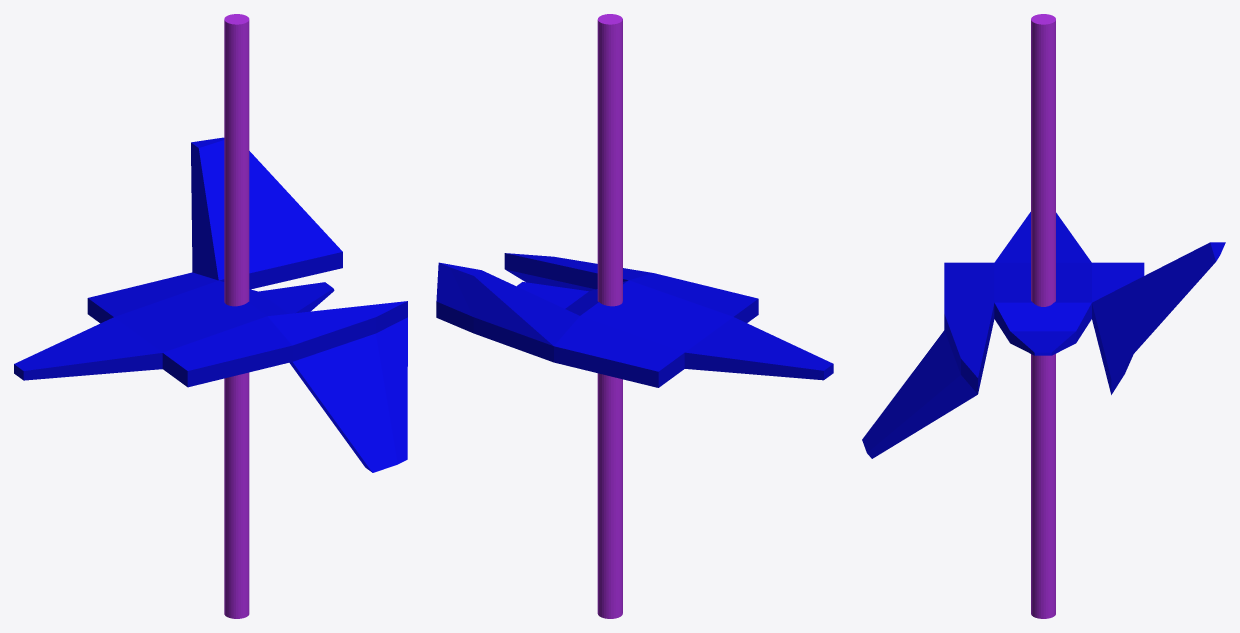
Rendered from Traps4.fbx.
3 views of the same model, side by side, from view 1: azimuth 30°, elevation 25°; view 2: azimuth 150°, elevation 25°; view 3: azimuth 270°, elevation 25° (orthographic).
Parts seen in each view (by area): view 1: Pervane, Direk; view 2: Pervane, Direk; view 3: Pervane, Direk.
Part boxes in pixels (<box>): Pervane: <box>14,137,407,472</box>; Direk: <box>224,14,249,618</box>; Pervane: <box>436,253,833,387</box>; Direk: <box>597,14,622,618</box>; Pervane: <box>862,212,1225,458</box>; Direk: <box>1031,14,1055,618</box>.
Bounding box in the file's own units: 256 × 405 × 225.
